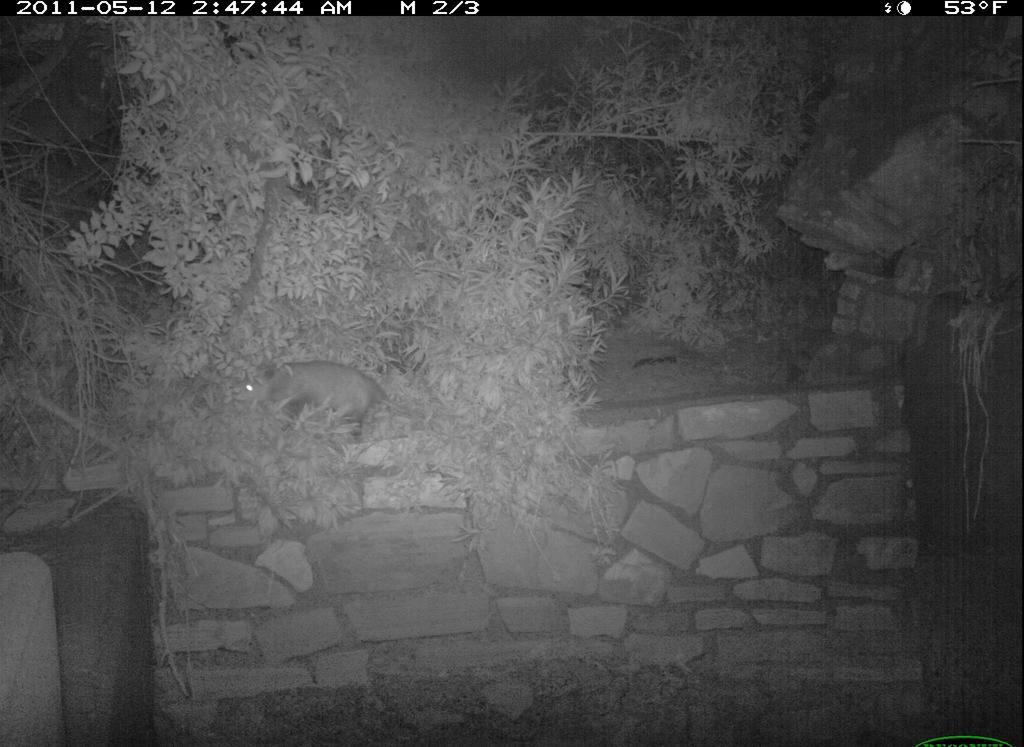opossum: (246, 363, 427, 441)
